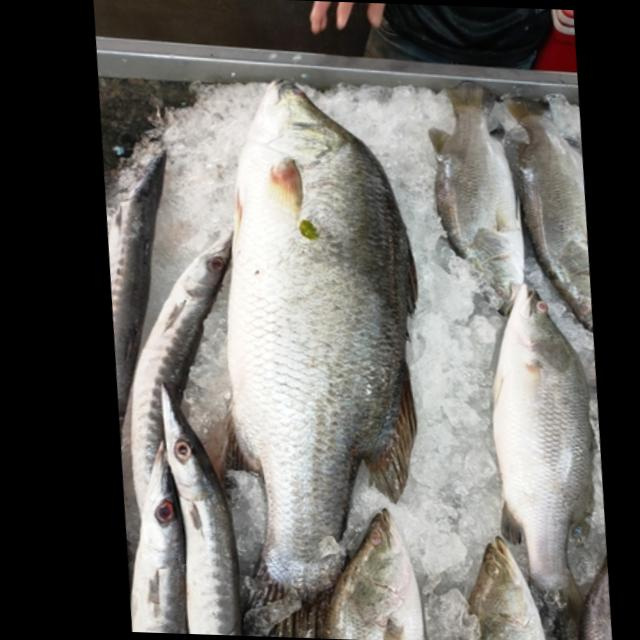Seabass: (174, 73, 456, 640), (465, 280, 619, 640), (416, 78, 535, 311), (485, 89, 599, 329), (304, 504, 426, 640), (430, 535, 551, 640), (560, 529, 614, 640)
